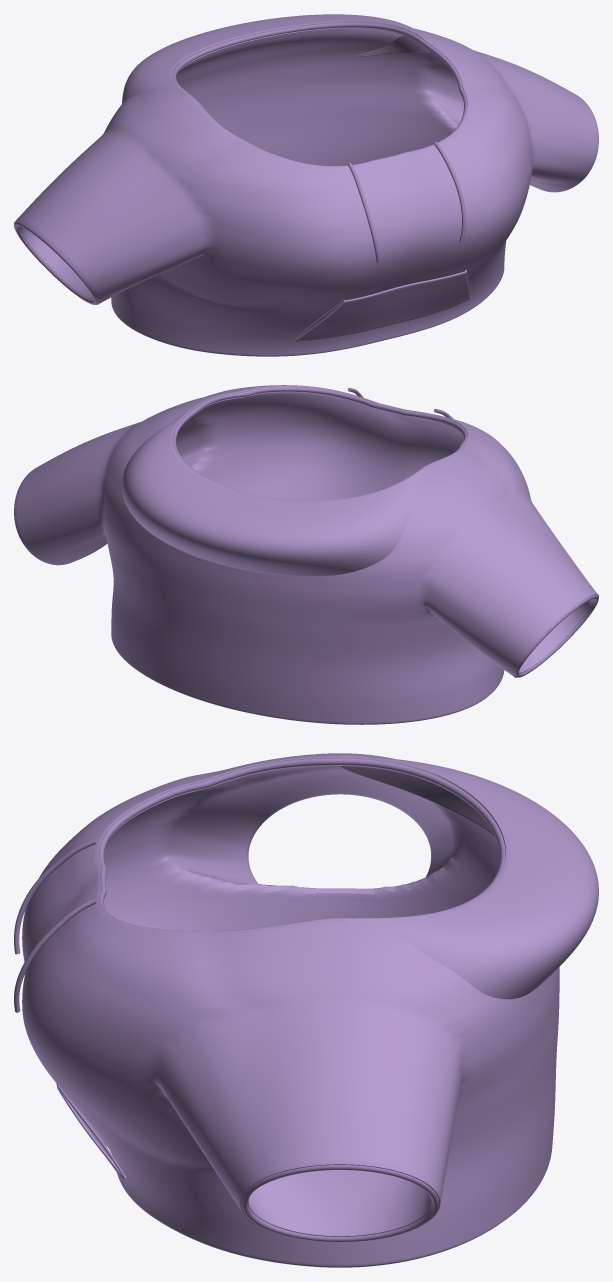
The model's file is Feminine-sweatshirt-top.glb.
3 views of the same model, one above another, from view 1: azimuth 30°, elevation 25°; view 2: azimuth 150°, elevation 25°; view 3: azimuth 270°, elevation 25° (orthographic). The views are drawn at different scales.
Visible parts, largest first — view 1: Clothing / sweatshirt, Hoodie / resting hood, Hoodie / kangaroo pocket, Neckline / fitted crew export, Sleeve / soft cuff -1 export, Hoodie / drawcord 1 export, Hoodie / drawcord -1 export; view 2: Clothing / sweatshirt, Hoodie / resting hood, Neckline / fitted crew export, Sleeve / soft cuff -1 export; view 3: Clothing / sweatshirt, Hoodie / resting hood, Neckline / fitted crew export, Sleeve / soft cuff 1 export, Hoodie / drawcord -1 export, Hoodie / drawcord 1 export.
Part boxes in pixels (left/top/right/bottom): Clothing / sweatshirt: left=14, top=22, right=598, bottom=355; Hoodie / resting hood: left=122, top=14, right=430, bottom=103; Hoodie / kangaroo pocket: left=295, top=271, right=470, bottom=341; Neckline / fitted crew export: left=172, top=22, right=467, bottom=166; Sleeve / soft cuff -1 export: left=14, top=222, right=97, bottom=304; Hoodie / drawcord 1 export: left=434, top=141, right=465, bottom=242; Hoodie / drawcord -1 export: left=347, top=162, right=380, bottom=262; Clothing / sweatshirt: left=14, top=385, right=598, bottom=723; Hoodie / resting hood: left=121, top=411, right=424, bottom=576; Neckline / fitted crew export: left=172, top=386, right=467, bottom=495; Sleeve / soft cuff -1 export: left=514, top=595, right=598, bottom=677; Clothing / sweatshirt: left=22, top=753, right=559, bottom=1266; Hoodie / resting hood: left=340, top=756, right=598, bottom=999; Neckline / fitted crew export: left=98, top=757, right=505, bottom=931; Sleeve / soft cuff 1 export: left=241, top=1165, right=439, bottom=1242; Hoodie / drawcord -1 export: left=14, top=838, right=96, bottom=954; Hoodie / drawcord 1 export: left=14, top=898, right=96, bottom=1012.
Bounding box in the file's own units: 0.9665 × 0.3642 × 0.6295.
